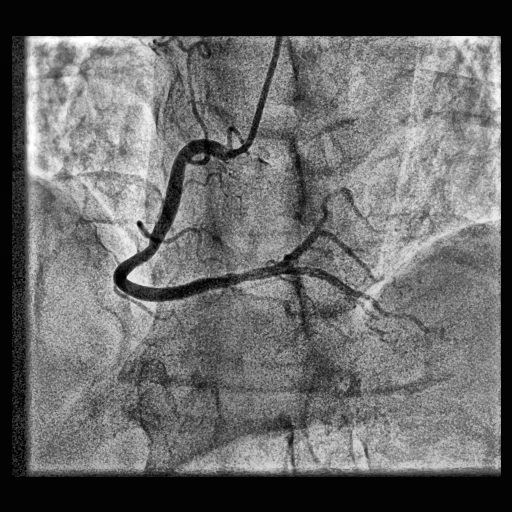pborca: (279, 187, 365, 263)
pda: (289, 266, 429, 331)
rca: (113, 140, 292, 300)
